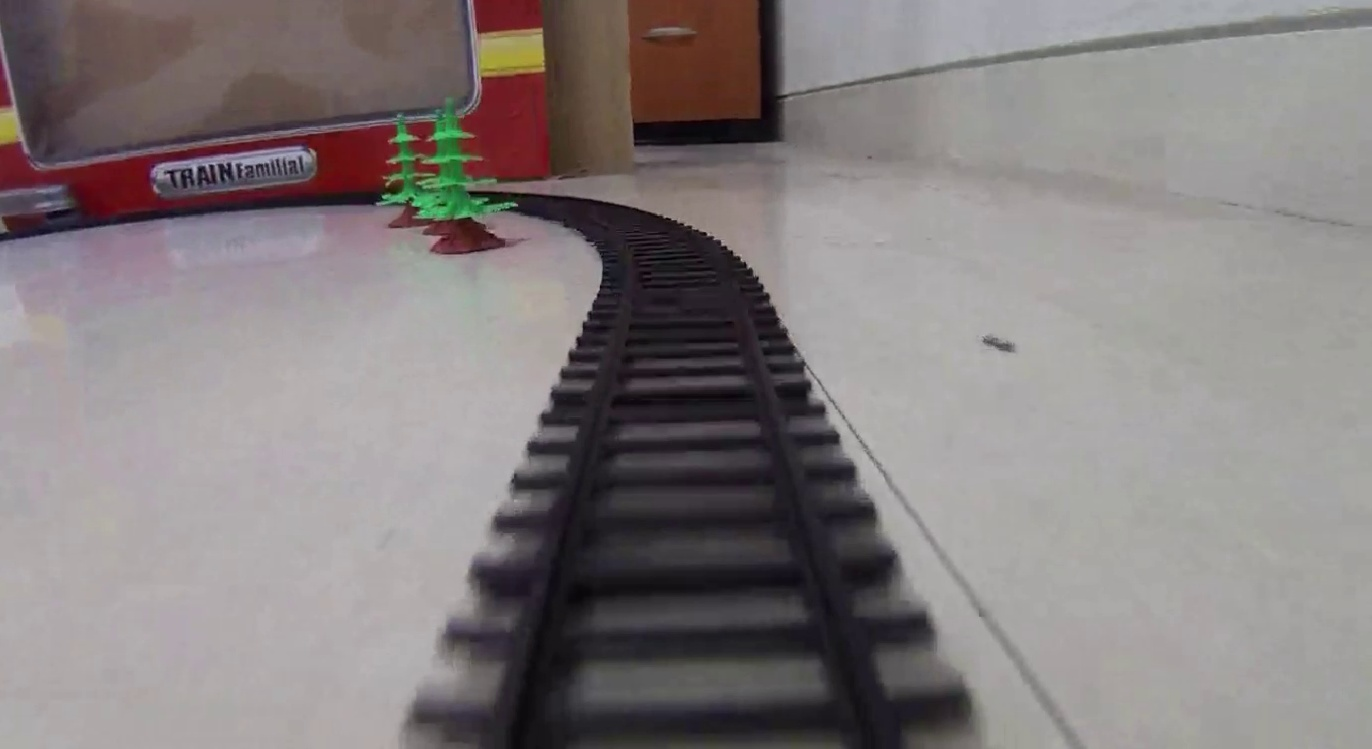tree: (423, 95, 506, 253), (379, 114, 434, 227)
